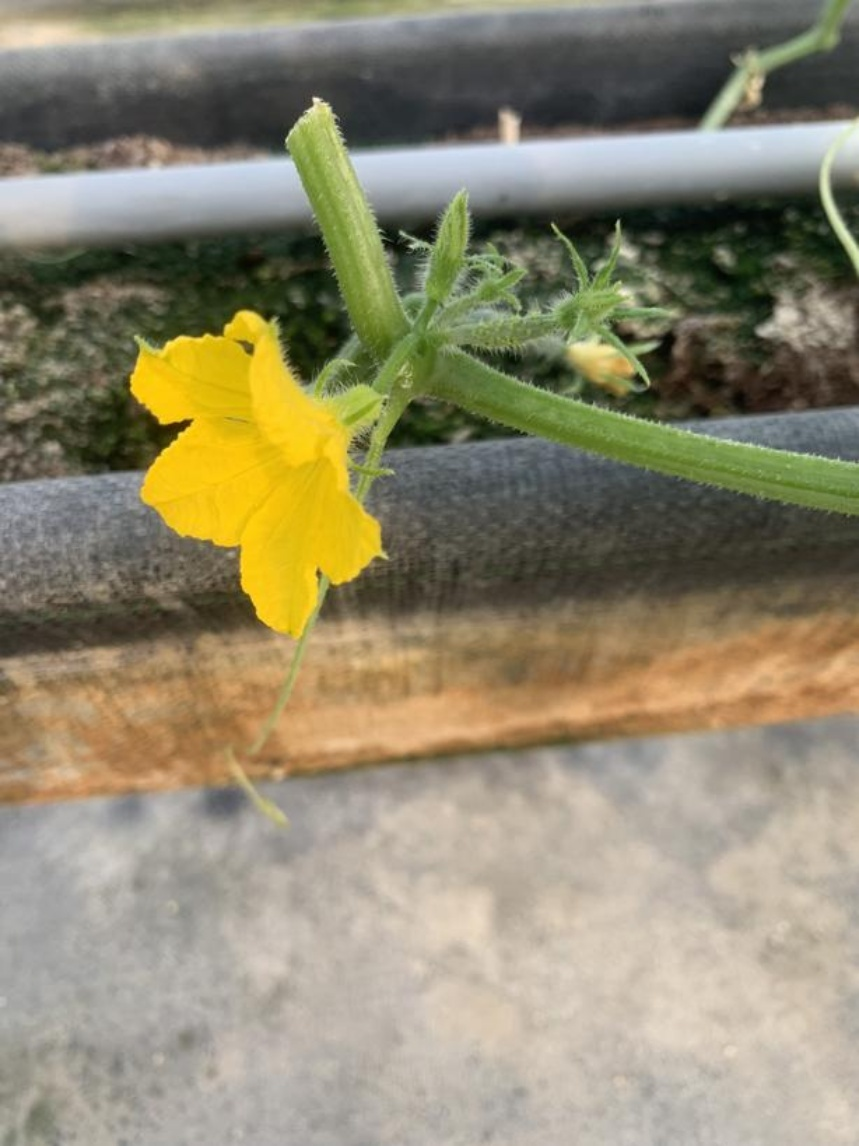mature: (114, 305, 442, 644)
